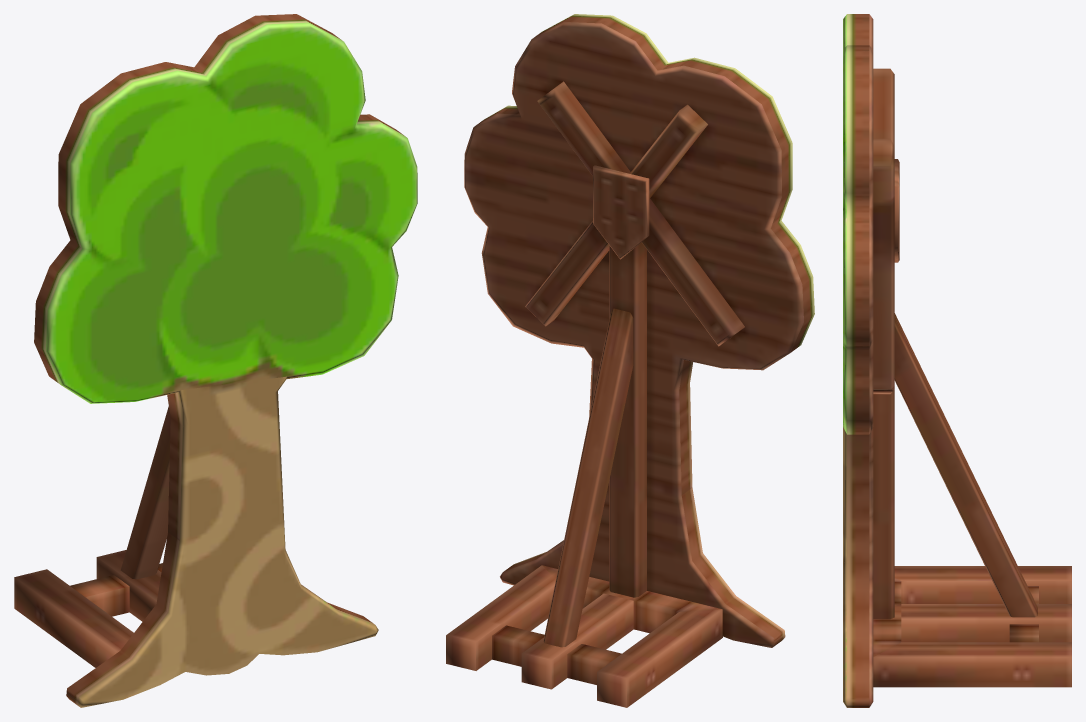
File: int_hrb_tree.dae
3 renders of one model, left to right at view 1: azimuth 30°, elevation 25°; view 2: azimuth 150°, elevation 25°; view 3: azimuth 270°, elevation 25°, orthographic. The views are drawn at different scales.
Visible parts, largest first — view 1: int_hrb_tree; view 2: int_hrb_tree; view 3: int_hrb_tree.
Part boxes in pixels (x1=…): int_hrb_tree: x1=14, y1=14, x2=417, y2=707; int_hrb_tree: x1=446, y1=14, x2=814, y2=707; int_hrb_tree: x1=843, y1=14, x2=1071, y2=707.
Bounding box in the file's own units: 49.02 × 80.37 × 27.54.
Materials: 1 (1 with a texture image).
